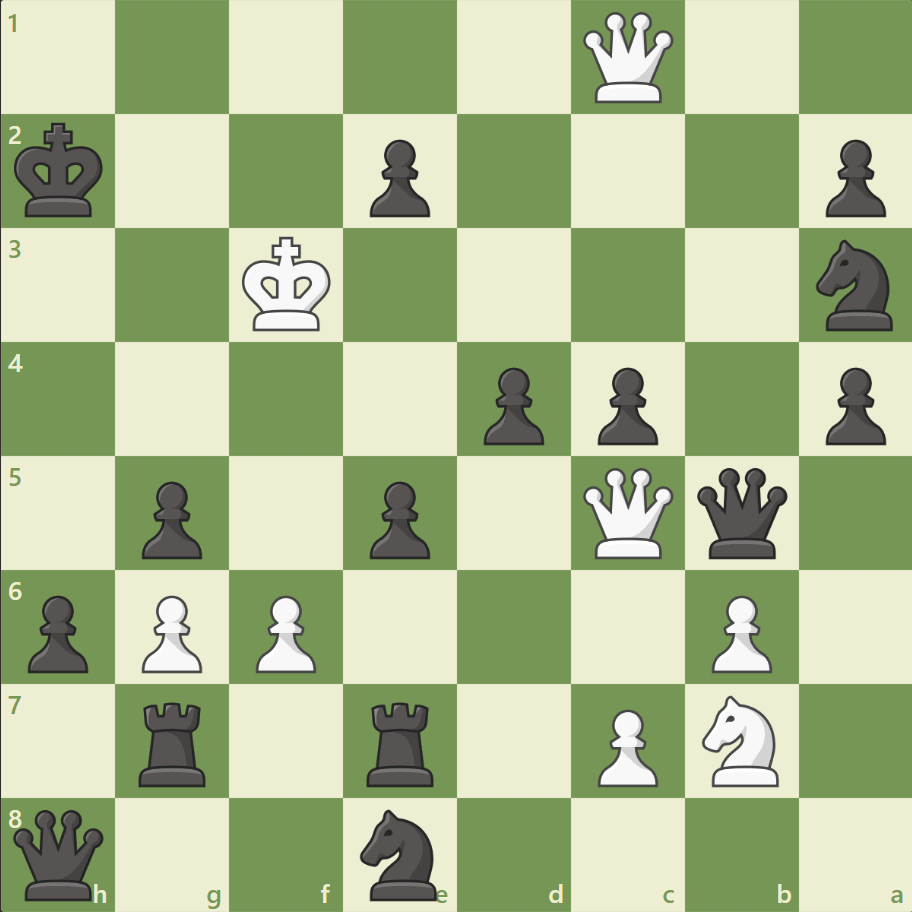K: (238, 231, 338, 339)
N: (692, 688, 789, 791)
P: (701, 586, 776, 677), (247, 586, 322, 677), (133, 586, 208, 677), (588, 700, 662, 791)
Q: (578, 463, 677, 562), (578, 9, 677, 108)
k: (11, 117, 111, 225)
n: (351, 802, 449, 904), (806, 234, 903, 337)
p: (20, 586, 95, 677), (133, 473, 208, 564), (474, 359, 549, 450), (361, 473, 435, 564), (815, 359, 889, 450), (588, 359, 662, 450), (815, 132, 889, 223), (361, 132, 435, 223)
q: (10, 804, 109, 903), (691, 463, 790, 562)
r: (360, 693, 442, 790), (133, 693, 215, 790)
